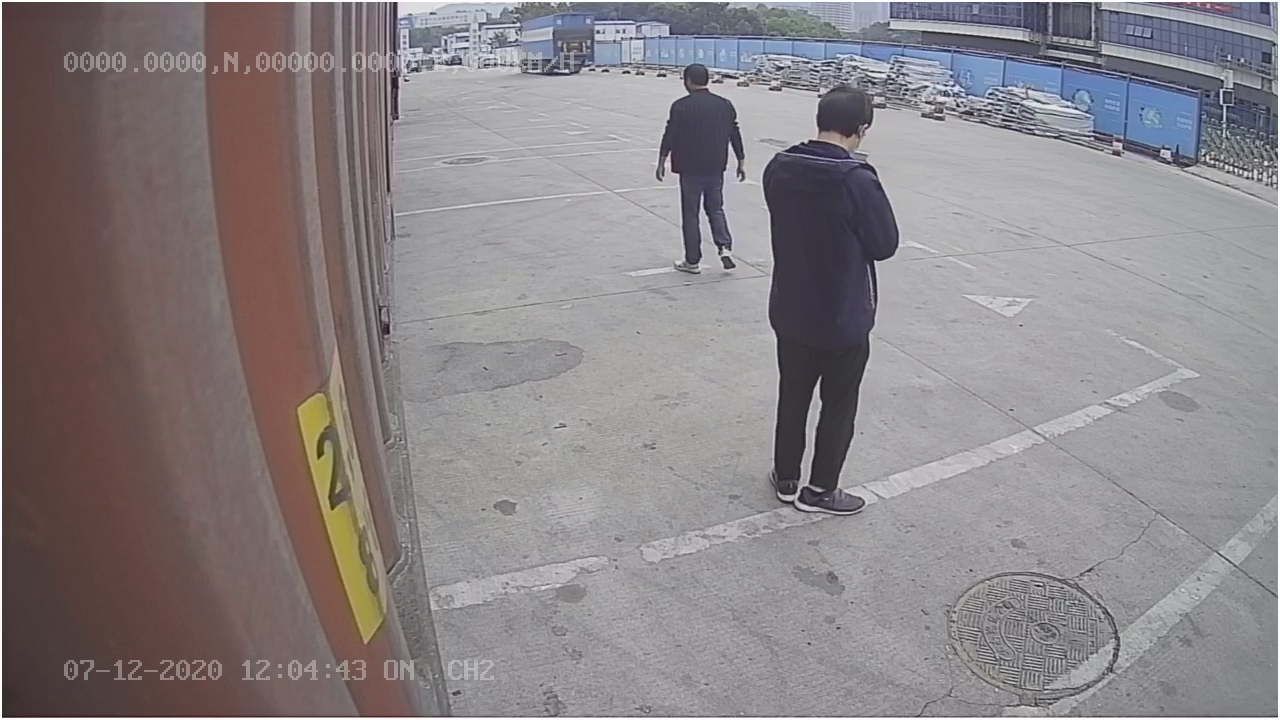person: (758, 77, 895, 517), (651, 62, 747, 278)
